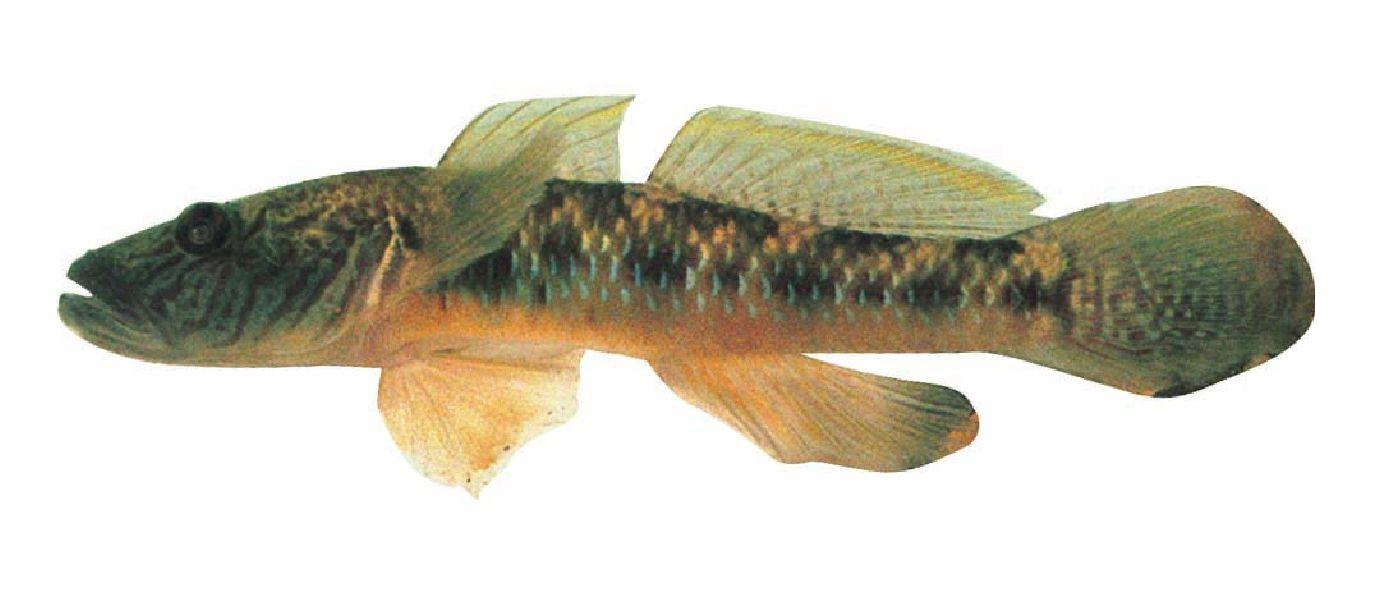Goby: (63, 94, 1324, 484)
